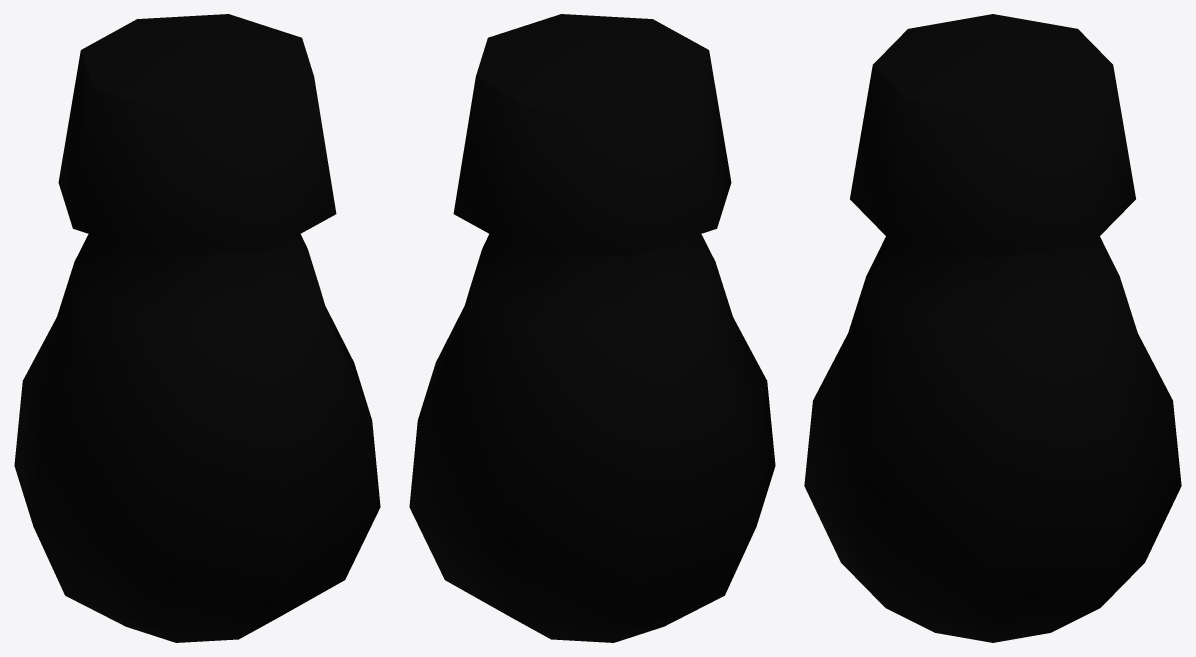
File: Prop_Lightbulb_model.fbx
3 renders of one model, left to right at view 1: azimuth 30°, elevation 25°; view 2: azimuth 150°, elevation 25°; view 3: azimuth 270°, elevation 25°, orthographic.
Parts seen in each view (by area): view 1: Prop_Lightbulb; view 2: Prop_Lightbulb; view 3: Prop_Lightbulb.
Part boxes in pixels (box(x1,y1,x2,y2)): Prop_Lightbulb: box(14, 14, 380, 642); Prop_Lightbulb: box(409, 14, 775, 642); Prop_Lightbulb: box(804, 14, 1181, 642).
Bounding box in the file's own units: 4.4 × 7.51 × 4.4.
Materials: 1 (1 with a texture image).
